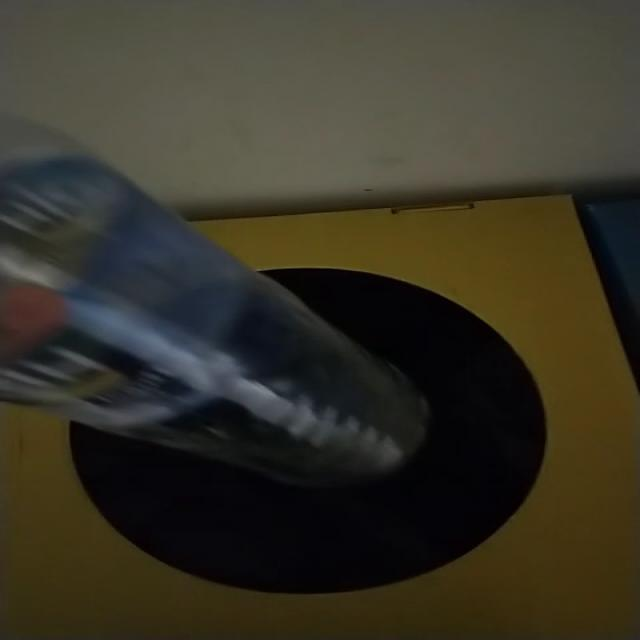Plastic: (0, 123, 428, 487)
